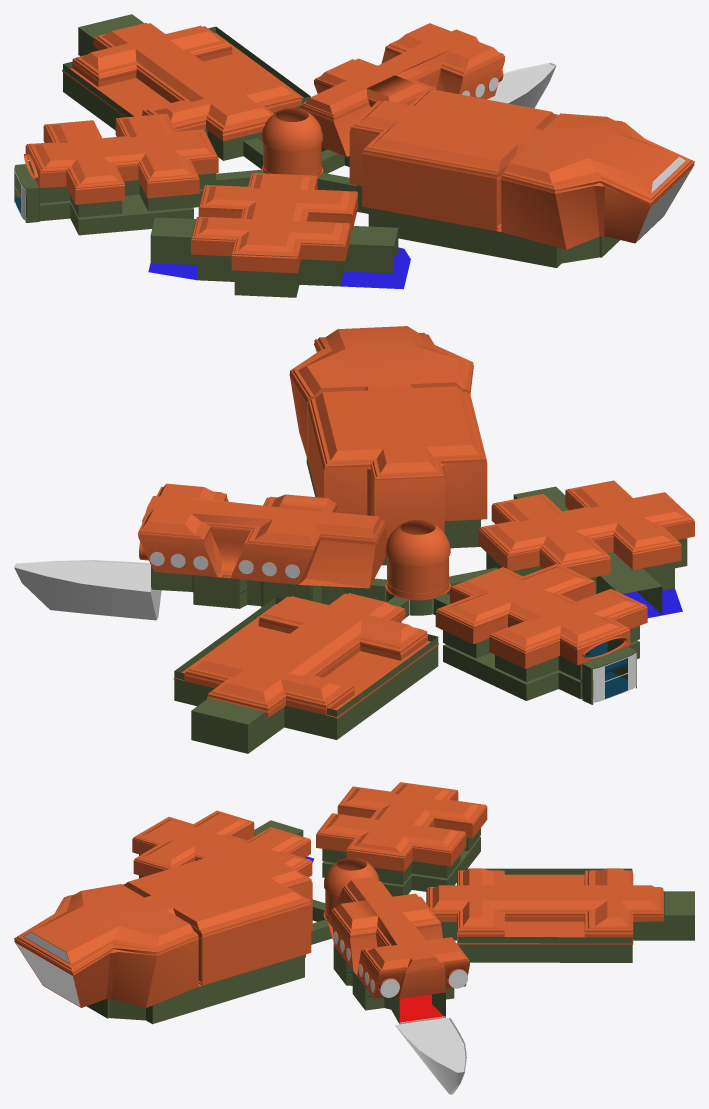
File: Veteran Art Museum.FBX
3 views of the same model, one above another, from view 1: azimuth 30°, elevation 25°; view 2: azimuth 150°, elevation 25°; view 3: azimuth 270°, elevation 25° (orthographic). The views are drawn at different scales.
Parts seen in each view (by area): view 1: Ceiling003, Ceiling, Ceiling002, Ceiling001, Ceiling004, Box007, Box008, Box006, Box001, Capsule001, gROUND002, Box011 (+3 smaller); view 2: Ceiling003, Ceiling, Ceiling004, Ceiling002, Ceiling001, Box001, Box011, Box006, Box009, Capsule001, Box007, Box008 (+3 smaller); view 3: Ceiling003, Ceiling, Ceiling004, Ceiling001, Box001, Ceiling002, Box008, Box011, Box006, Box009, Capsule001, Glass Window (+3 smaller).
Boxes of the visible parts, x1=… form: Ceiling003: x1=349, y1=89, x2=694, y2=249; Ceiling: x1=62, y1=22, x2=303, y2=141; Ceiling002: x1=191, y1=173, x2=357, y2=273; Ceiling001: x1=24, y1=113, x2=218, y2=204; Ceiling004: x1=300, y1=23, x2=505, y2=156; Box007: x1=150, y1=217, x2=398, y2=297; Box008: x1=317, y1=173, x2=619, y2=267; Box006: x1=14, y1=161, x2=215, y2=235; Box001: x1=63, y1=14, x2=310, y2=168; Capsule001: x1=261, y1=108, x2=323, y2=177; gROUND002: x1=148, y1=247, x2=410, y2=289; Box011: x1=463, y1=62, x2=556, y2=108; Ceiling003: x1=289, y1=326, x2=487, y2=538; Ceiling: x1=173, y1=593, x2=438, y2=718; Ceiling004: x1=138, y1=483, x2=387, y2=588; Ceiling002: x1=478, y1=480, x2=694, y2=578; Ceiling001: x1=435, y1=563, x2=647, y2=668; Box001: x1=174, y1=596, x2=438, y2=753; Box011: x1=14, y1=560, x2=161, y2=620; Box006: x1=443, y1=626, x2=639, y2=704; Box009: x1=151, y1=563, x2=386, y2=608; Capsule001: x1=385, y1=520, x2=451, y2=600; Box007: x1=449, y1=486, x2=687, y2=614; Box008: x1=306, y1=457, x2=480, y2=565; Ceiling003: x1=14, y1=852, x2=312, y2=1007; Ceiling: x1=426, y1=868, x2=663, y2=944; Ceiling004: x1=327, y1=876, x2=469, y2=998; Ceiling001: x1=316, y1=782, x2=487, y2=871; Box001: x1=440, y1=868, x2=694, y2=962; Ceiling002: x1=132, y1=810, x2=312, y2=877; Box008: x1=86, y1=919, x2=332, y2=1024; Box011: x1=395, y1=1017, x2=466, y2=1094; Box006: x1=322, y1=828, x2=480, y2=896; Box009: x1=333, y1=943, x2=454, y2=1023; Capsule001: x1=323, y1=857, x2=379, y2=920; Glass Window: x1=16, y1=943, x2=80, y2=1006.
Size of what is drawn, in the model's own units: 12476 by 2916 by 14381.
